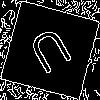U: (25, 25, 80, 84)
